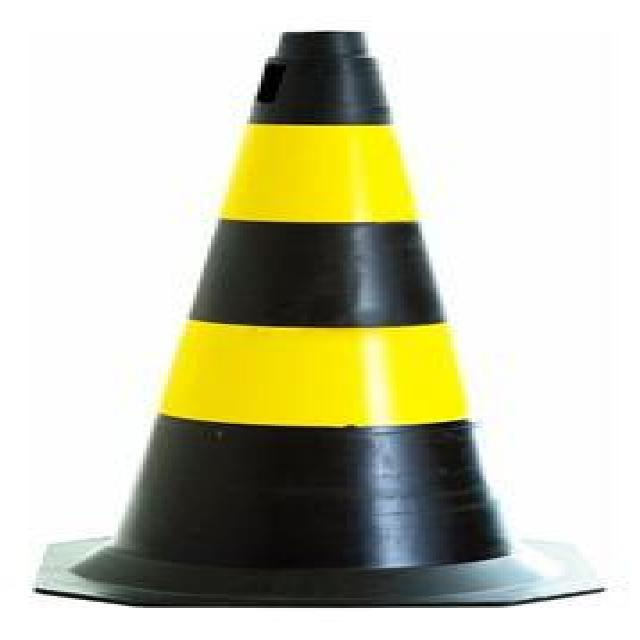cone: (64, 24, 556, 608)
